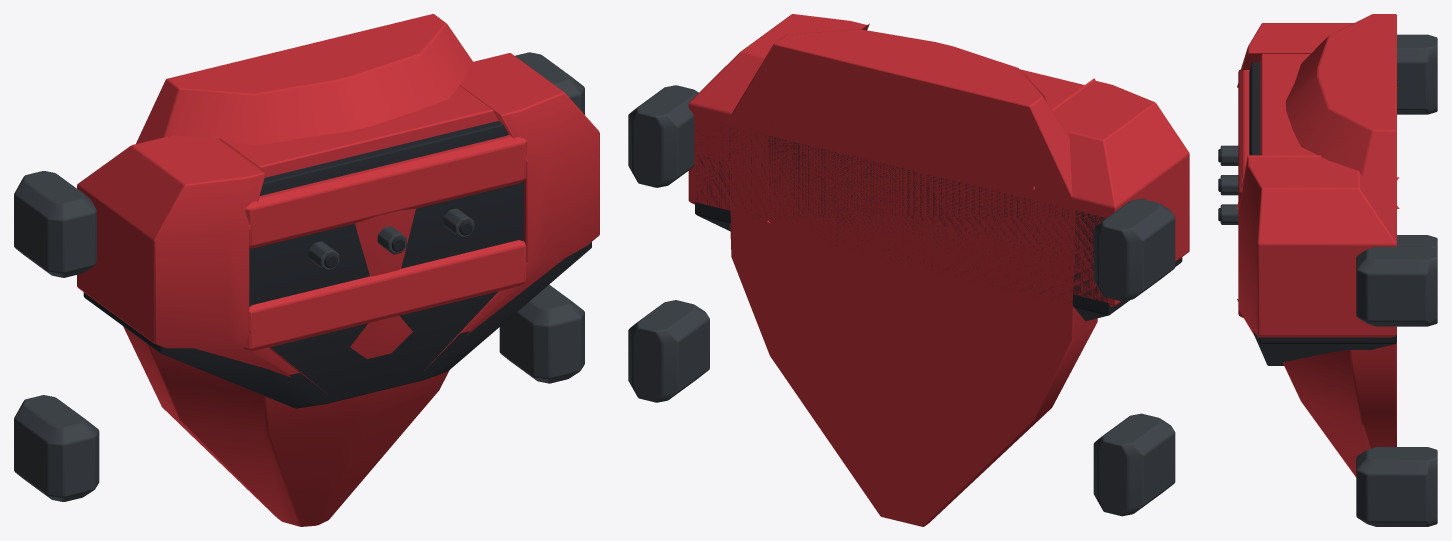
Rendered from UpperArmBack_Set07_Salvo.fbx.
The picture shows the model from 3 angles, left to right: view 1: azimuth 30°, elevation 25°; view 2: azimuth 150°, elevation 25°; view 3: azimuth 270°, elevation 25°; orthographic projection. The views are drawn at different scales.
Parts seen in each view (by area): view 1: UpperArmBack_Set07_Salvo; view 2: UpperArmBack_Set07_Salvo; view 3: UpperArmBack_Set07_Salvo.
Part boxes in pixels (x1=…): UpperArmBack_Set07_Salvo: x1=14, y1=14, x2=599, y2=526; UpperArmBack_Set07_Salvo: x1=628, y1=14, x2=1189, y2=526; UpperArmBack_Set07_Salvo: x1=1218, y1=14, x2=1437, y2=526.
Size of the model in its own units: 0.41 by 0.34 by 0.1618.
